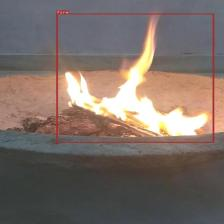fire: (56, 13, 214, 143)
